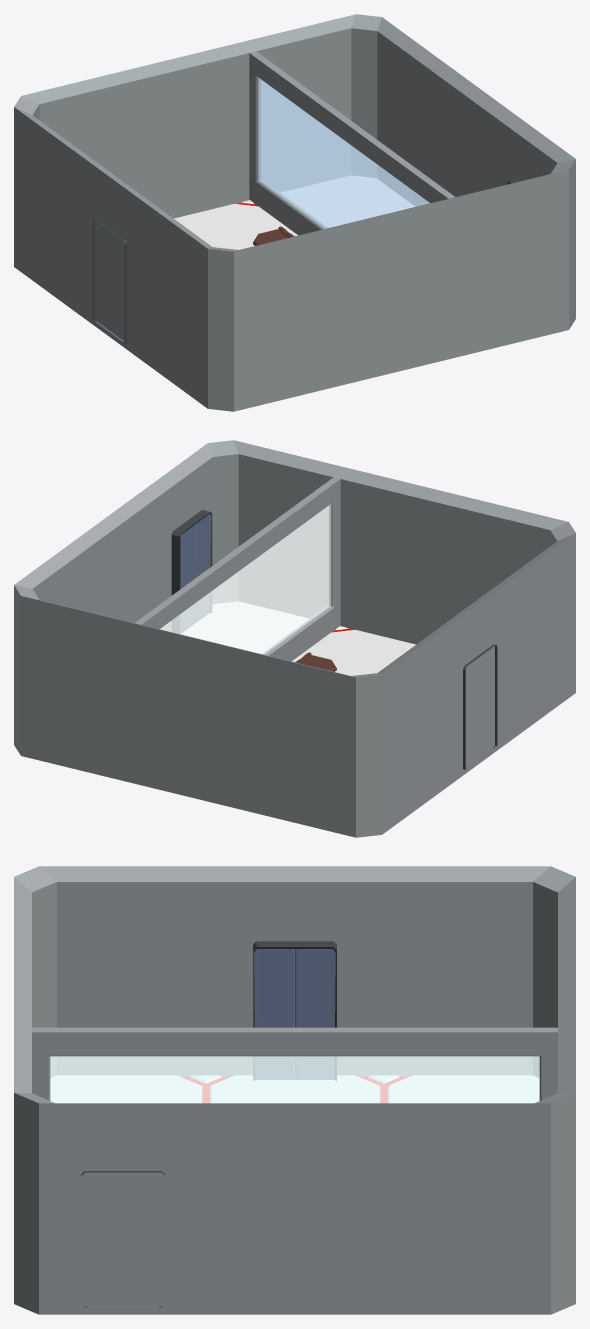
Rendered from Room.fbx.
The picture shows the model from 3 angles, top to bottom: view 1: azimuth 30°, elevation 25°; view 2: azimuth 150°, elevation 25°; view 3: azimuth 270°, elevation 25°; orthographic projection. The views are drawn at different scales.
Visible parts, largest first — view 1: Walls, Centre Wall, Floor, Door; view 2: Walls, Centre Wall, Floor, Enclosed Door, Door; view 3: Walls, Centre Wall, Floor, Door.
Part boxes in pixels (left/top/right/bottom): Walls: left=14, top=14, right=575, bottom=411; Centre Wall: left=249, top=51, right=454, bottom=235; Floor: left=174, top=175, right=413, bottom=249; Door: left=92, top=218, right=126, bottom=343; Walls: left=14, top=440, right=575, bottom=837; Centre Wall: left=135, top=477, right=340, bottom=661; Floor: left=181, top=601, right=415, bottom=675; Enclosed Door: left=171, top=510, right=212, bottom=633; Door: left=463, top=644, right=497, bottom=769; Walls: left=14, top=866, right=575, bottom=1314; Centre Wall: left=32, top=1027, right=557, bottom=1103; Floor: left=50, top=1075, right=539, bottom=1102; Door: left=253, top=941, right=336, bottom=1080.
Size of the model in its own units: 160 by 65.52 by 158.
